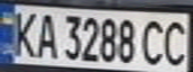2: (78, 12, 100, 63)
3: (57, 11, 84, 62)
8: (115, 15, 142, 64), (100, 15, 121, 64)
A: (30, 9, 60, 60)
C: (157, 16, 193, 69), (136, 16, 172, 66)
K: (6, 7, 42, 58)
